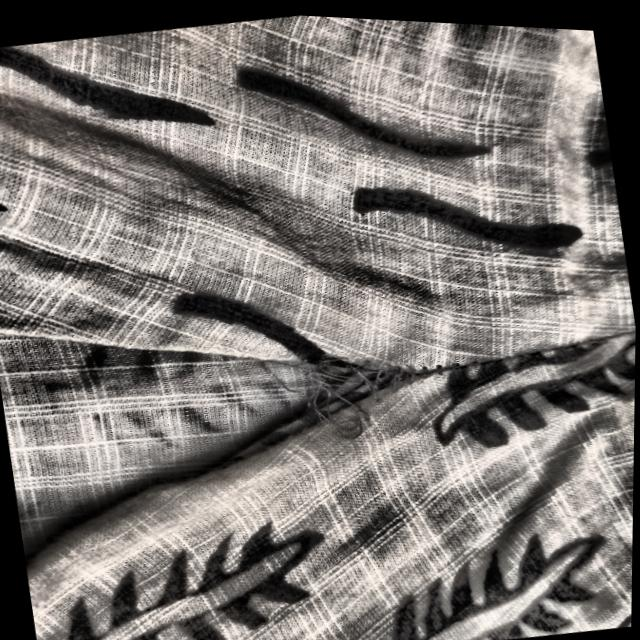Stitch: (236, 311, 463, 461)
